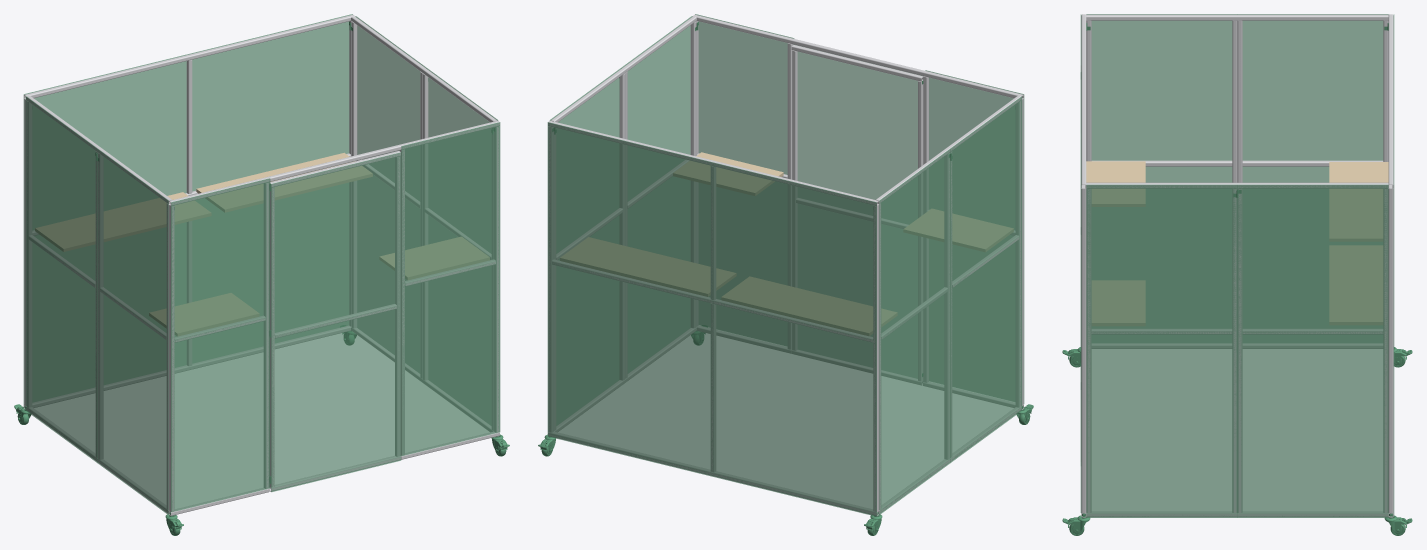
The model's file is ISLA_SIMULACION.glb.
3 renders of one model, left to right at view 1: azimuth 30°, elevation 25°; view 2: azimuth 150°, elevation 25°; view 3: azimuth 270°, elevation 25°, orthographic. The views are drawn at different scales.
Parts seen in each view (by area): view 1: Solid1 (×36); view 2: Solid1 (×36); view 3: Solid1 (×34).
Boxes of the visible parts, x1,y1,x2,y2 form: Solid1 (×36): (23,14,500,515); Solid1 (×36): (547,14,1024,516); Solid1 (×34): (1080,14,1394,517).
Size of the model in its own units: 2.6 by 2.45 by 2.21.
